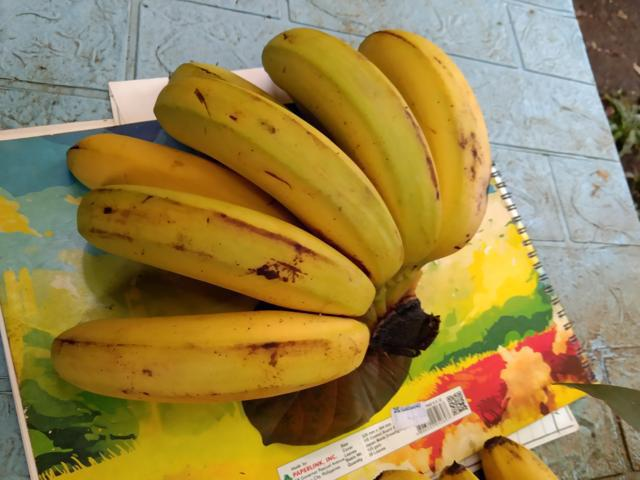ripe: (151, 71, 400, 290), (60, 179, 373, 319), (361, 22, 505, 258), (41, 319, 387, 400)
